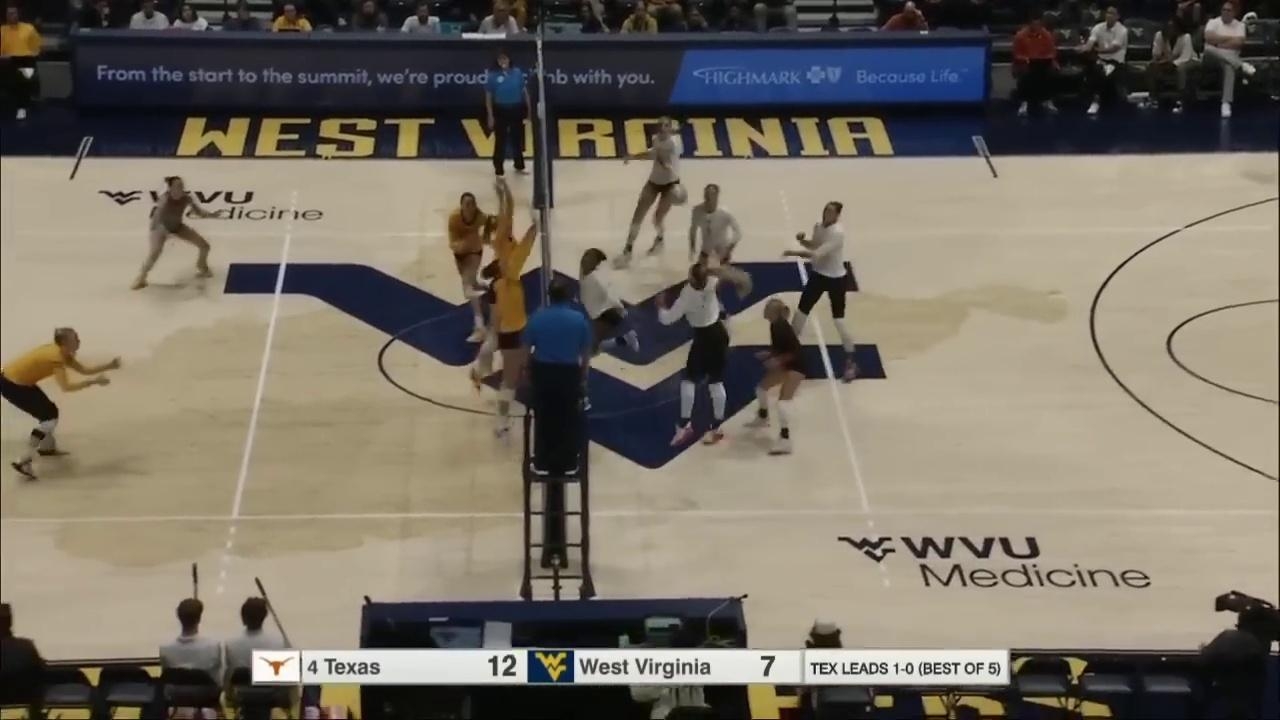player: (1, 327, 122, 479), (785, 201, 858, 383), (660, 263, 727, 453), (608, 116, 682, 265), (128, 178, 221, 291), (485, 224, 535, 431), (575, 249, 639, 409), (471, 174, 517, 387), (748, 299, 803, 456), (686, 183, 743, 319), (449, 192, 495, 342)
refree: (521, 280, 590, 471), (487, 50, 531, 174)
